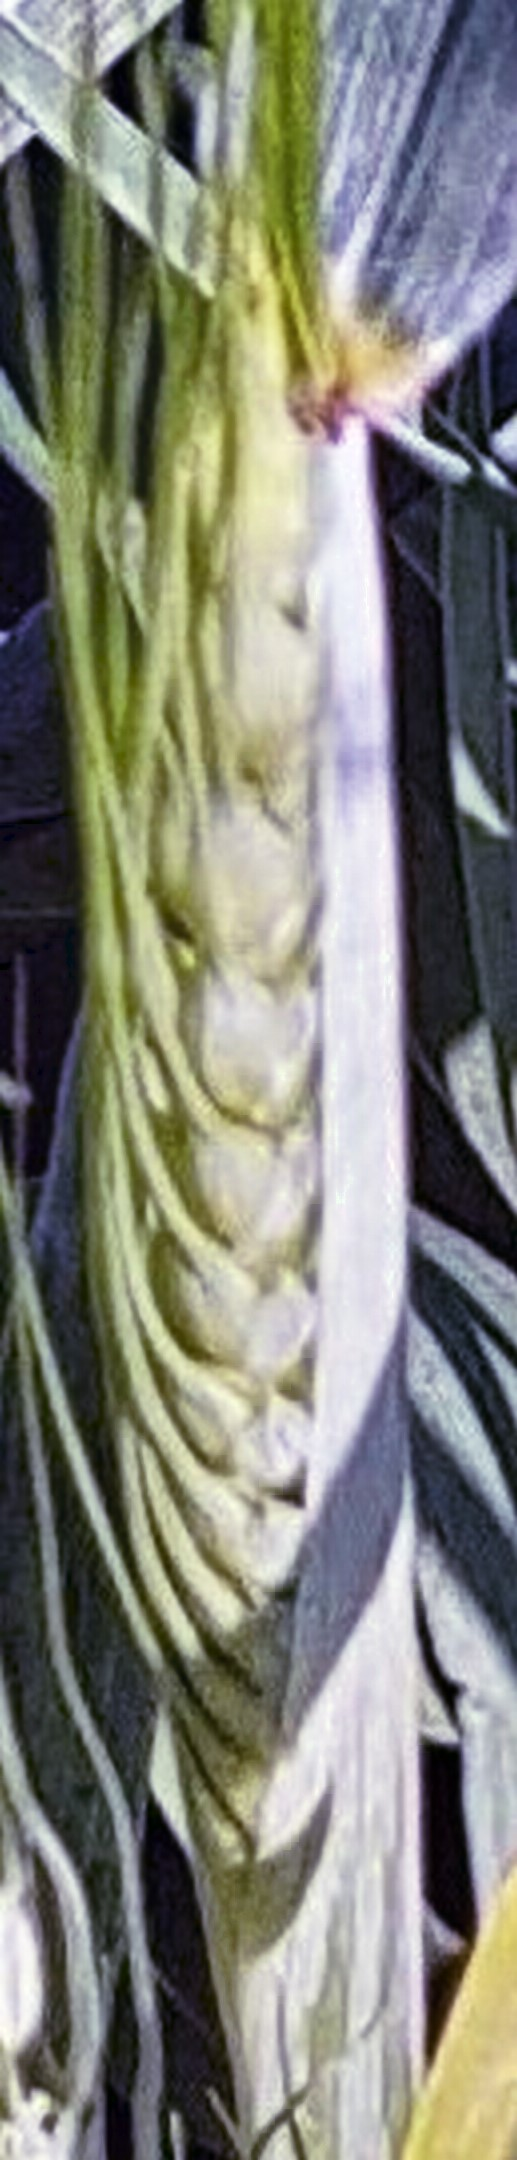Healthy Wheat: (48, 368, 434, 1816)
